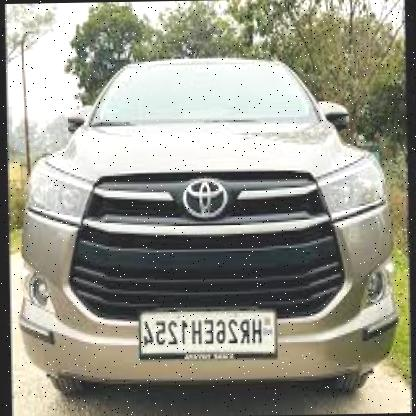car: (9, 44, 401, 399)
